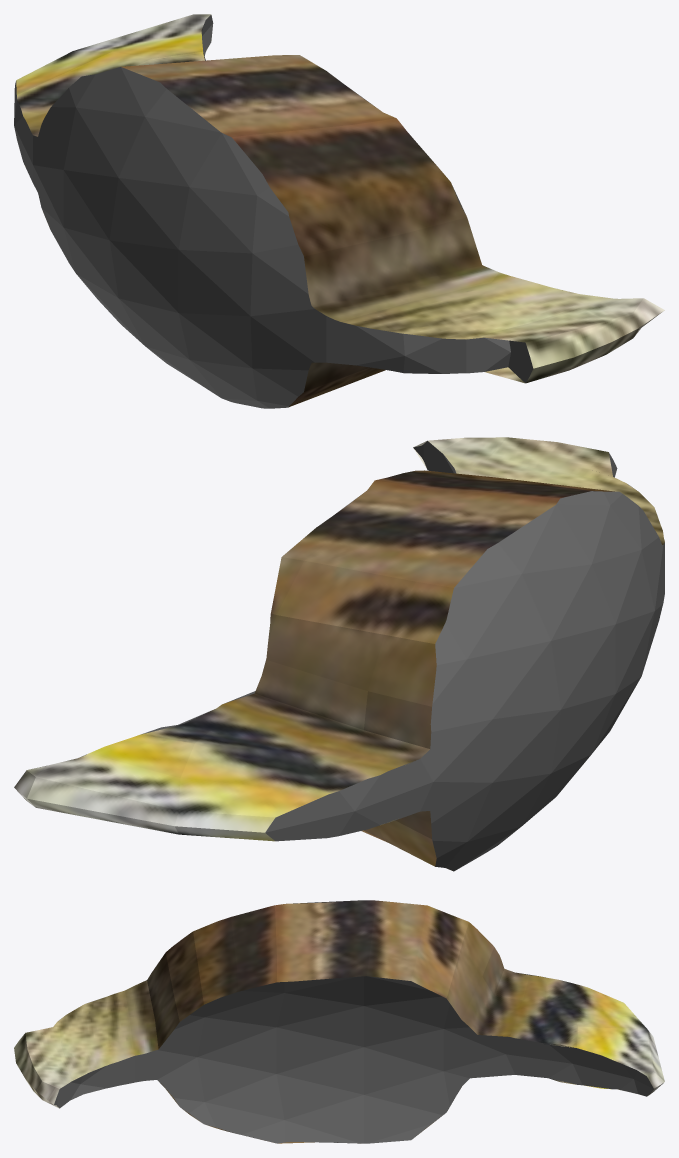
Rendered from link_9_composite.obj.
3 renders of one model, top to bottom at view 1: azimuth 30°, elevation 25°; view 2: azimuth 150°, elevation 25°; view 3: azimuth 270°, elevation 25°, orthographic. The views are drawn at different scales.
Bounding box in the file's own units: 0.00187 × 0.00143 × 0.00415.
1 material, 1 textured.
